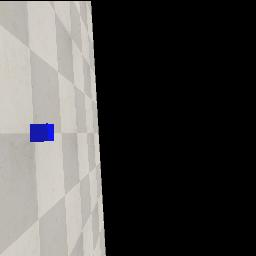box: (30, 123, 54, 142)
